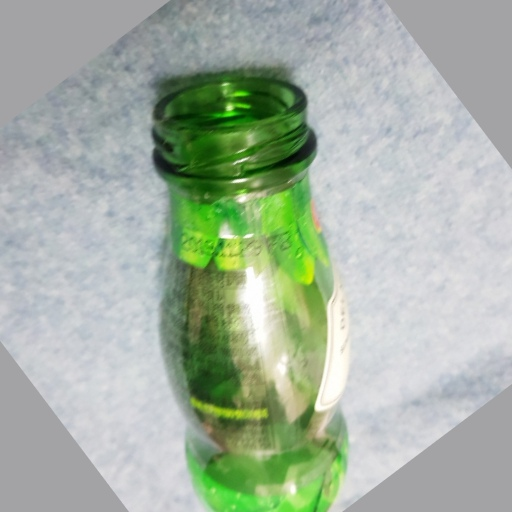Glass_4: (146, 66, 356, 512)
